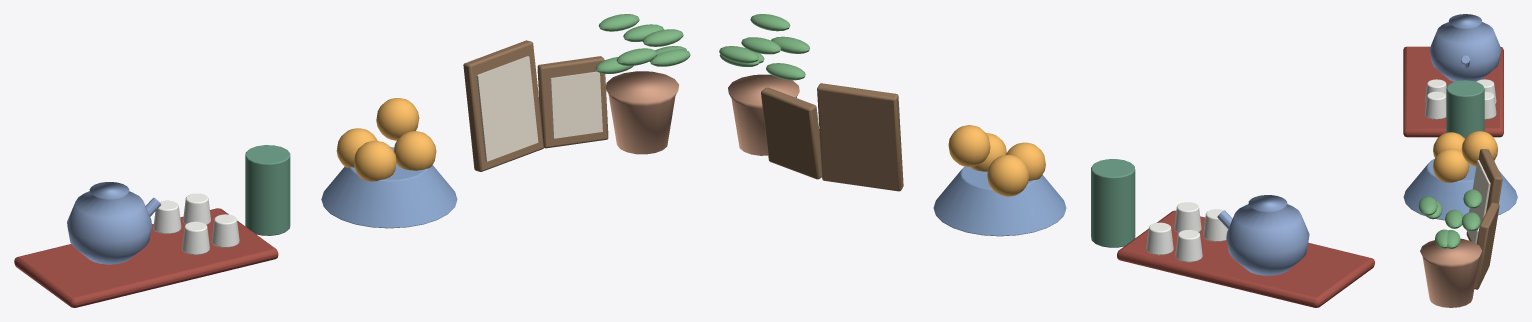
The model's file is dn_sideboard_dressing.fbx.
3 views of the same model, side by side, from view 1: azimuth 30°, elevation 25°; view 2: azimuth 150°, elevation 25°; view 3: azimuth 270°, elevation 25° (orthographic). The views are drawn at different scales.
Visible parts, largest first — view 1: Tray, FruitBowl, Teapot.001, PhotoImage, PlantPot, TeaTin, PhotoFrame, PhotoImage.001, PhotoFrame.001, Orange, Orange.003, Orange.001 (+9 smaller); view 2: Tray, PhotoFrame, FruitBowl, Teapot.001, PhotoFrame.001, TeaTin, PlantPot, Orange.003, Orange.002, Orange, Cup.003, Cup.004 (+8 smaller); view 3: Tray, Teapot.001, PlantPot, FruitBowl, TeaTin, PhotoFrame.001, Orange.001, Orange.003, PhotoFrame, PhotoImage, Cup.002, Orange (+11 smaller).
Boxes of the visible parts, left/top/right/bottom form: Tray: left=14, top=208, right=278, bottom=307; FruitBowl: left=321, top=147, right=457, bottom=228; Teapot.001: left=67, top=182, right=151, bottom=264; PhotoImage: left=476, top=56, right=538, bottom=161; PlantPot: left=605, top=71, right=678, bottom=154; TeaTin: left=245, top=145, right=290, bottom=235; PhotoFrame: left=463, top=40, right=543, bottom=171; PhotoImage.001: left=550, top=71, right=602, bottom=138; PhotoFrame.001: left=537, top=56, right=608, bottom=148; Orange: left=354, top=140, right=396, bottom=181; Orange.003: left=376, top=98, right=419, bottom=140; Orange.001: left=393, top=131, right=436, bottom=170; Tray: left=1117, top=210, right=1374, bottom=307; PhotoFrame: left=817, top=83, right=903, bottom=191; FruitBowl: left=933, top=166, right=1066, bottom=236; Teapot.001: left=1226, top=195, right=1309, bottom=275; PhotoFrame.001: left=761, top=87, right=821, bottom=179; TeaTin: left=1091, top=159, right=1135, bottom=247; PlantPot: left=728, top=74, right=799, bottom=155; Orange.003: left=948, top=125, right=990, bottom=166; Orange.002: left=987, top=154, right=1028, bottom=196; Orange: left=1006, top=142, right=1045, bottom=180; Cup.003: left=1175, top=229, right=1202, bottom=262; Cup.004: left=1146, top=222, right=1173, bottom=255; Tray: left=1403, top=46, right=1503, bottom=137; Teapot.001: left=1429, top=14, right=1501, bottom=81; PlantPot: left=1420, top=238, right=1481, bottom=307; FruitBowl: left=1403, top=158, right=1517, bottom=220; TeaTin: left=1446, top=80, right=1484, bottom=138; PhotoFrame.001: left=1474, top=202, right=1499, bottom=289; Orange.001: left=1433, top=148, right=1469, bottom=182; Orange.003: left=1461, top=131, right=1497, bottom=166; PhotoFrame: left=1466, top=149, right=1502, bottom=241; PhotoImage: left=1466, top=160, right=1490, bottom=242; Cup.002: left=1425, top=91, right=1446, bottom=119; Orange: left=1433, top=132, right=1464, bottom=157.
Size of the model in its own units: 1.3 by 0.2321 by 0.2391.
